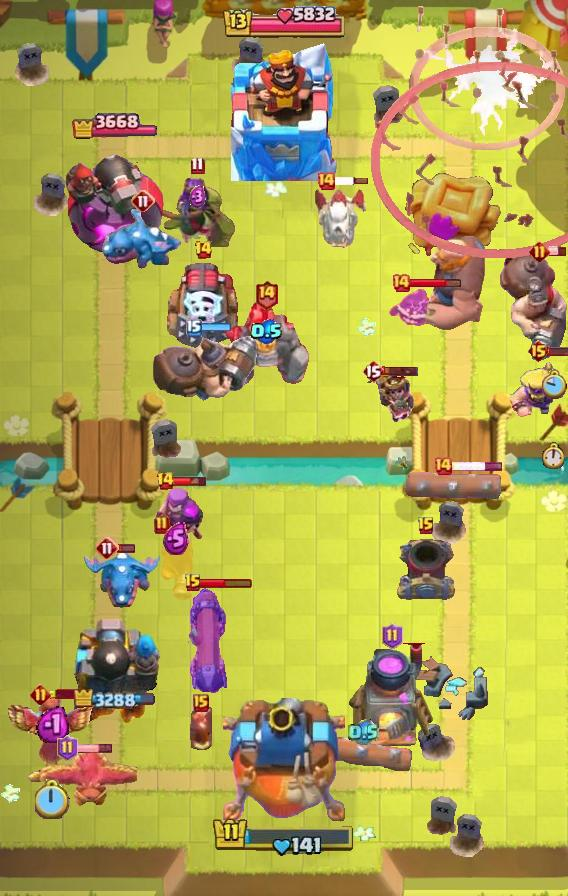arrows: (510, 354, 568, 420)
balloon: (420, 231, 488, 333)
barbarian-evolution: (409, 26, 565, 149)
barbarian-hut: (152, 175, 242, 247)
battle-healer: (184, 587, 232, 699)
bomb-tower: (157, 524, 195, 602)
bomber: (188, 704, 214, 754)
bomber-evolution: (363, 368, 418, 424)
cannoneer-tower: (221, 298, 311, 388)
clock: (212, 816, 356, 858), (221, 3, 347, 43)
electro-spirit: (35, 705, 68, 744), (163, 521, 189, 554), (249, 320, 283, 345), (349, 718, 379, 745), (190, 185, 207, 209)
elixir: (34, 779, 69, 819), (542, 369, 568, 399), (540, 443, 564, 470)
emote: (199, 577, 252, 589), (410, 278, 463, 289), (451, 460, 504, 471), (381, 365, 418, 377), (172, 475, 208, 487), (75, 742, 113, 753), (199, 322, 233, 333), (333, 176, 369, 186), (48, 689, 84, 699), (548, 345, 568, 357), (548, 246, 567, 258), (116, 542, 136, 553)
golden-knight: (6, 697, 98, 773)
golem: (163, 258, 243, 350)
graveyard: (101, 207, 185, 271), (82, 549, 160, 611)
hunter: (347, 643, 437, 751)
king-tower: (223, 698, 345, 826), (231, 43, 337, 181)
mini-pekka: (312, 186, 368, 248)
minion: (312, 734, 414, 782), (405, 468, 513, 504)
mother-witch: (25, 744, 137, 812)
musketeer: (395, 536, 457, 604)
rascal-girl: (150, 486, 204, 544)
selected: (71, 110, 156, 142), (73, 689, 154, 711)
skeleton-barrel: (369, 0, 568, 260)
spear-goblin: (389, 288, 445, 328)
text: (254, 279, 279, 309), (131, 189, 155, 213), (95, 536, 119, 560), (526, 339, 549, 363), (382, 623, 403, 649), (57, 735, 78, 761), (362, 359, 384, 383), (529, 241, 550, 263), (30, 684, 51, 705), (316, 171, 336, 191), (194, 240, 214, 260), (391, 273, 411, 293), (433, 456, 453, 476), (157, 471, 176, 491), (417, 516, 435, 536), (184, 573, 202, 593), (154, 515, 170, 535), (186, 319, 202, 337), (193, 694, 209, 712), (191, 157, 206, 175)
tower-bar: (64, 138, 164, 256), (67, 611, 161, 731)
wizard: (149, 333, 261, 403), (498, 250, 568, 360)
